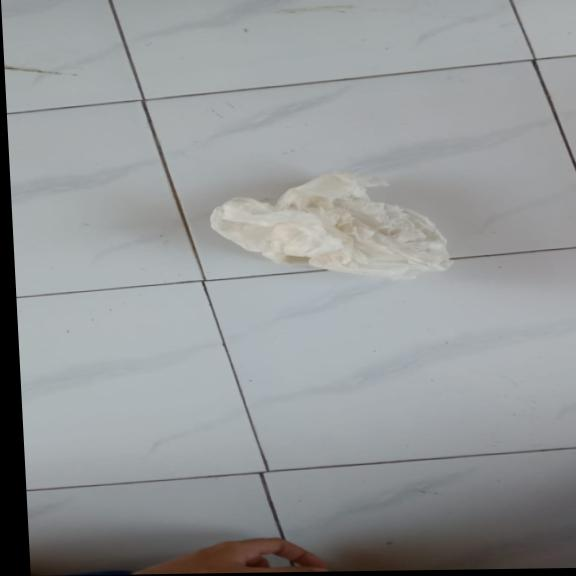Plastik: (204, 170, 456, 282)
